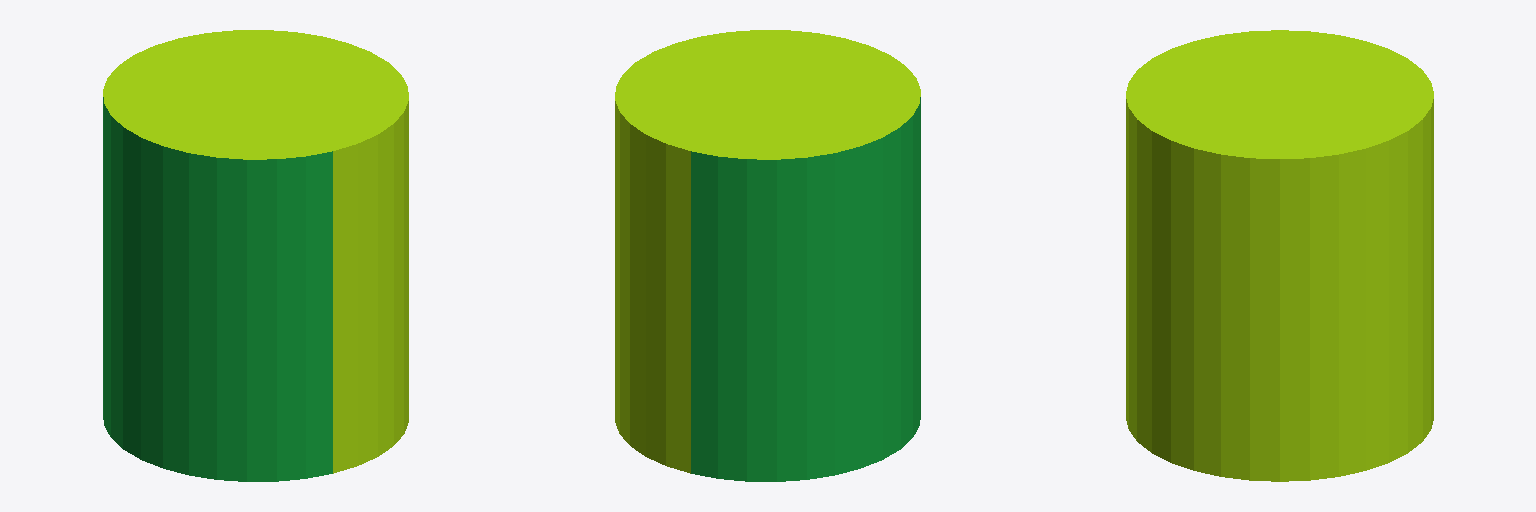
3 views of the same model, side by side, from view 1: azimuth 30°, elevation 25°; view 2: azimuth 150°, elevation 25°; view 3: azimuth 270°, elevation 25° (orthographic).
Parts seen in each view (by area): view 1: Cylinder; view 2: Cylinder; view 3: Cylinder.
Part boxes in pixels (left/top/right/bottom): Cylinder: left=103, top=30, right=408, bottom=481; Cylinder: left=615, top=30, right=920, bottom=481; Cylinder: left=1126, top=30, right=1433, bottom=481.
Bounding box in the file's own units: 1.95 × 2.27 × 1.97.
1 materials, 1 textured.